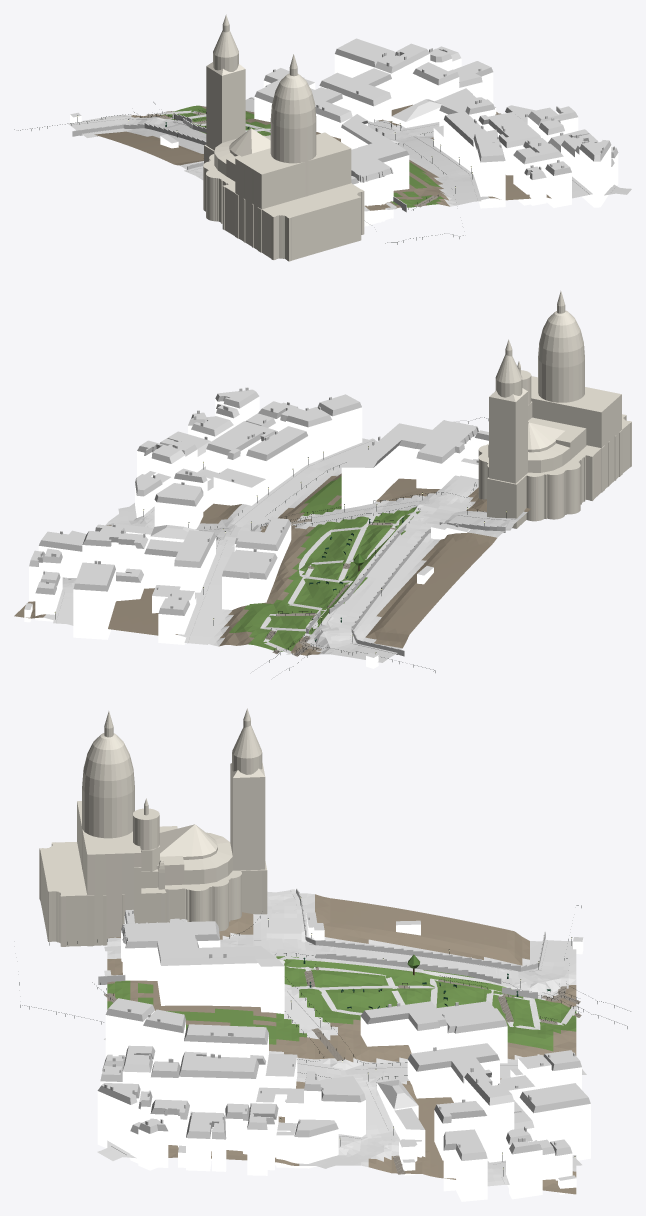
The model's file is zone_F5.glb.
The picture shows the model from 3 angles, top to bottom: view 1: azimuth 30°, elevation 25°; view 2: azimuth 150°, elevation 25°; view 3: azimuth 270°, elevation 25°; orthographic projection. The views are drawn at different scales.
Visible parts, largest first — view 1: zone_F5_batiments, zone_F5_terrain, zone_F5_sol_NOCOL; view 2: zone_F5_batiments, zone_F5_terrain, zone_F5_sol_NOCOL, zone_F5_decor_NOCOL; view 3: zone_F5_batiments, zone_F5_terrain, zone_F5_sol_NOCOL, zone_F5_decor_NOCOL.
Part boxes in pixels (x1,y1,x2,y2): zone_F5_batiments: [70, 14, 618, 261]; zone_F5_terrain: [68, 104, 618, 211]; zone_F5_sol_NOCOL: [70, 97, 631, 209]; zone_F5_batiments: [24, 291, 631, 668]; zone_F5_terrain: [14, 438, 530, 662]; zone_F5_sol_NOCOL: [53, 438, 516, 661]; zone_F5_decor_NOCOL: [54, 417, 506, 672]; zone_F5_batiments: [39, 708, 590, 1201]; zone_F5_terrain: [107, 891, 576, 1194]; zone_F5_sol_NOCOL: [97, 889, 586, 1186]; zone_F5_decor_NOCOL: [19, 896, 630, 1176].
Bounding box in the file's own units: 225 × 128 × 241.
